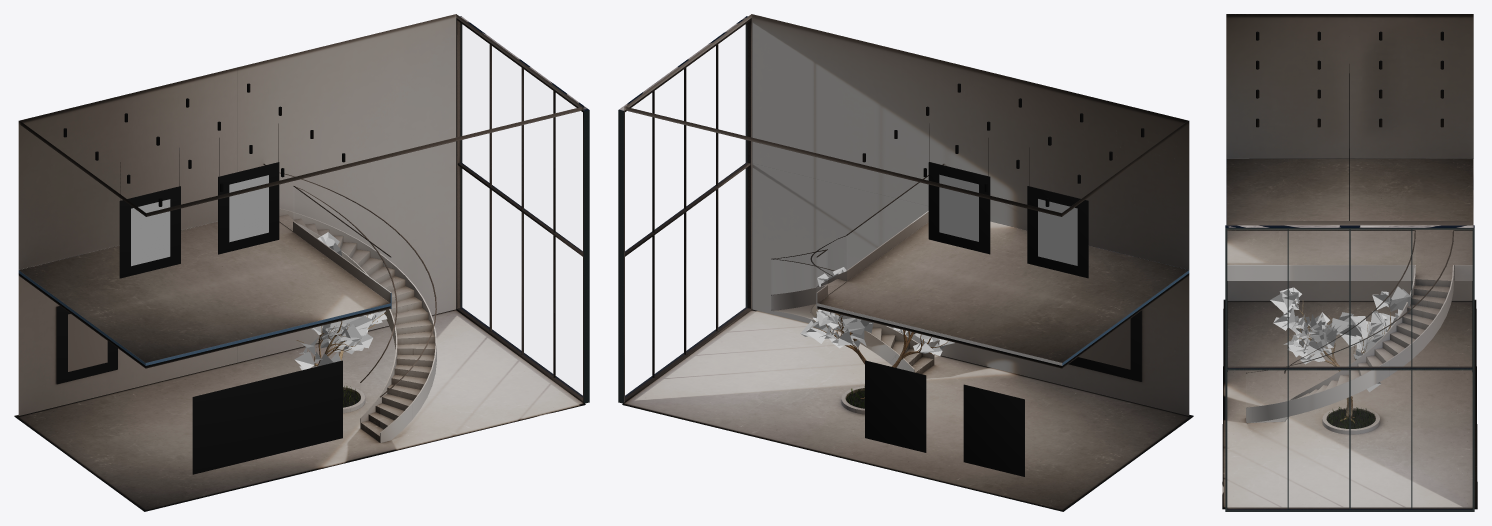
The picture shows the model from 3 angles, left to right: view 1: azimuth 30°, elevation 25°; view 2: azimuth 150°, elevation 25°; view 3: azimuth 270°, elevation 25°; orthographic projection. The views are drawn at different scales.
Parts seen in each view (by area): view 1: walls, floor, paintings, steel, stairs, leaf; view 2: walls, floor, paintings, steel, stairs, leaf; view 3: floor, walls, stairs, steel, leaf, tree, paintings.
Boxes of the visible parts, bbox=[...] form: walls: bbox=[14, 14, 583, 416]; floor: bbox=[15, 221, 585, 511]; paintings: bbox=[56, 123, 342, 474]; steel: bbox=[63, 16, 589, 403]; stairs: bbox=[279, 208, 436, 442]; leaf: bbox=[294, 232, 387, 370]; walls: bbox=[624, 14, 1193, 416]; floor: bbox=[622, 221, 1192, 511]; paintings: bbox=[865, 123, 1141, 476]; steel: bbox=[618, 16, 1144, 403]; stairs: bbox=[771, 211, 934, 373]; leaf: bbox=[800, 267, 954, 355]; floor: bbox=[1222, 159, 1477, 509]; walls: bbox=[1222, 14, 1477, 482]; stairs: bbox=[1227, 265, 1472, 423]; steel: bbox=[1225, 31, 1474, 511]; leaf: bbox=[1270, 286, 1410, 392]; tree: bbox=[1289, 300, 1391, 423]; paintings: bbox=[1227, 64, 1472, 371].
Size of the model in its own units: 11.83 by 7.72 by 6.04.
